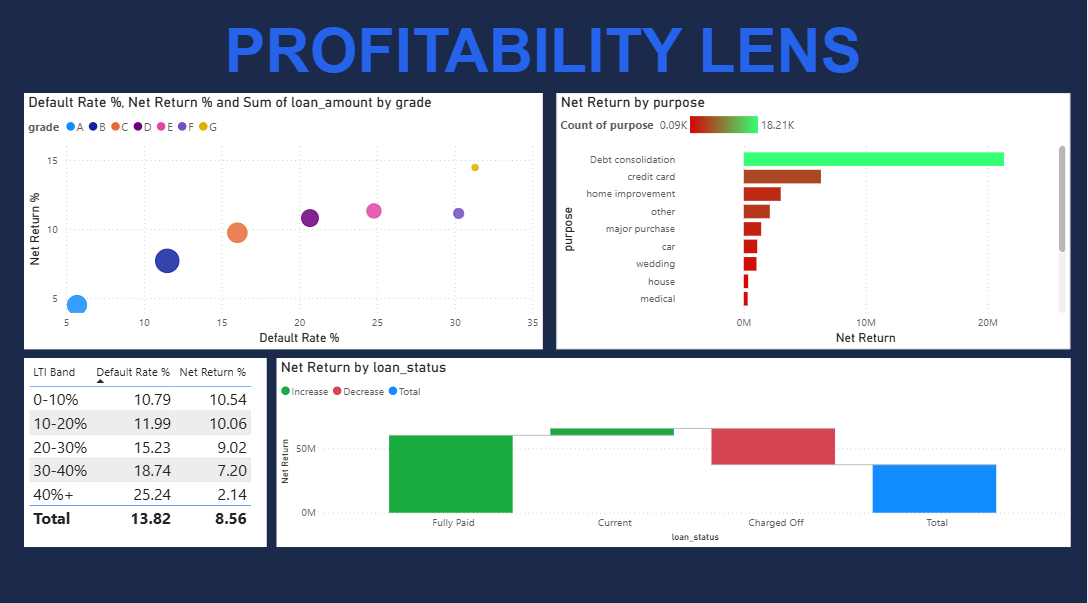

The dashboard page shown, as its layout file describes it:
{"tool":"powerbi","page":{"name":"Profitability","canvas":[1280,720],"ordinal":2},"visuals":[{"type":"scatterChart","fields":{"X":["Bank_Loan_DATA.Default Rate %"],"Y":["Bank_Loan_DATA.Net Return %"],"Size":["Sum(Bank_Loan_DATA.loan_amount)"],"Series":["Bank_Loan_DATA.grade"]},"box":[29.8,111.6,610.4,301.5],"z":0},{"type":"barChart","fields":{"Category":["Bank_Loan_DATA.purpose"],"Y":["Bank_Loan_DATA.Net Return"]},"box":[656.3,111.6,604.1,301.5],"z":1000},{"type":"waterfallChart","fields":{"Category":["Bank_Loan_DATA.loan_status"],"Y":["Bank_Loan_DATA.Net Return"]},"box":[326.3,423,934.1,222.1],"z":2000},{"type":"tableEx","fields":{"Values":["Bank_Loan_DATA.LTI Band","Bank_Loan_DATA.Default Rate %","Bank_Loan_DATA.Net Return %"]},"box":[29.8,423,285.3,222.1],"z":3000},{"type":"textbox","box":[0,16.1,1280.3,95.5],"z":3001}]}

Visuals, with their boxes in screenshot pixels (x1, y1, x2, y2), scaled from the page's 1280x720 canvas onto the 1088x603 screenshot:
scatterChart - Bank_Loan_DATA.Default Rate % x Bank_Loan_DATA.Net Return %: x1=25, y1=93, x2=544, y2=346
barChart - Bank_Loan_DATA.purpose x Bank_Loan_DATA.Net Return: x1=558, y1=93, x2=1071, y2=346
waterfallChart - Bank_Loan_DATA.loan_status x Bank_Loan_DATA.Net Return: x1=277, y1=354, x2=1071, y2=540
tableEx - Bank_Loan_DATA.LTI Band x Bank_Loan_DATA.Default Rate %: x1=25, y1=354, x2=268, y2=540
textbox: x1=0, y1=13, x2=1087, y2=93
